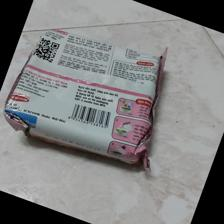Haohao: (4, 26, 169, 175)
